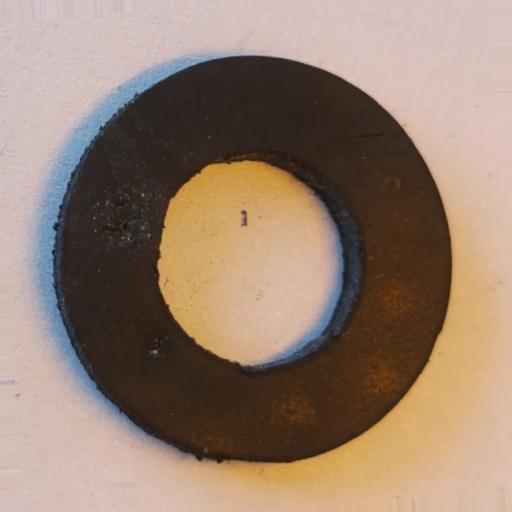defect: (89, 175, 165, 257), (149, 331, 173, 363), (348, 127, 389, 143)
